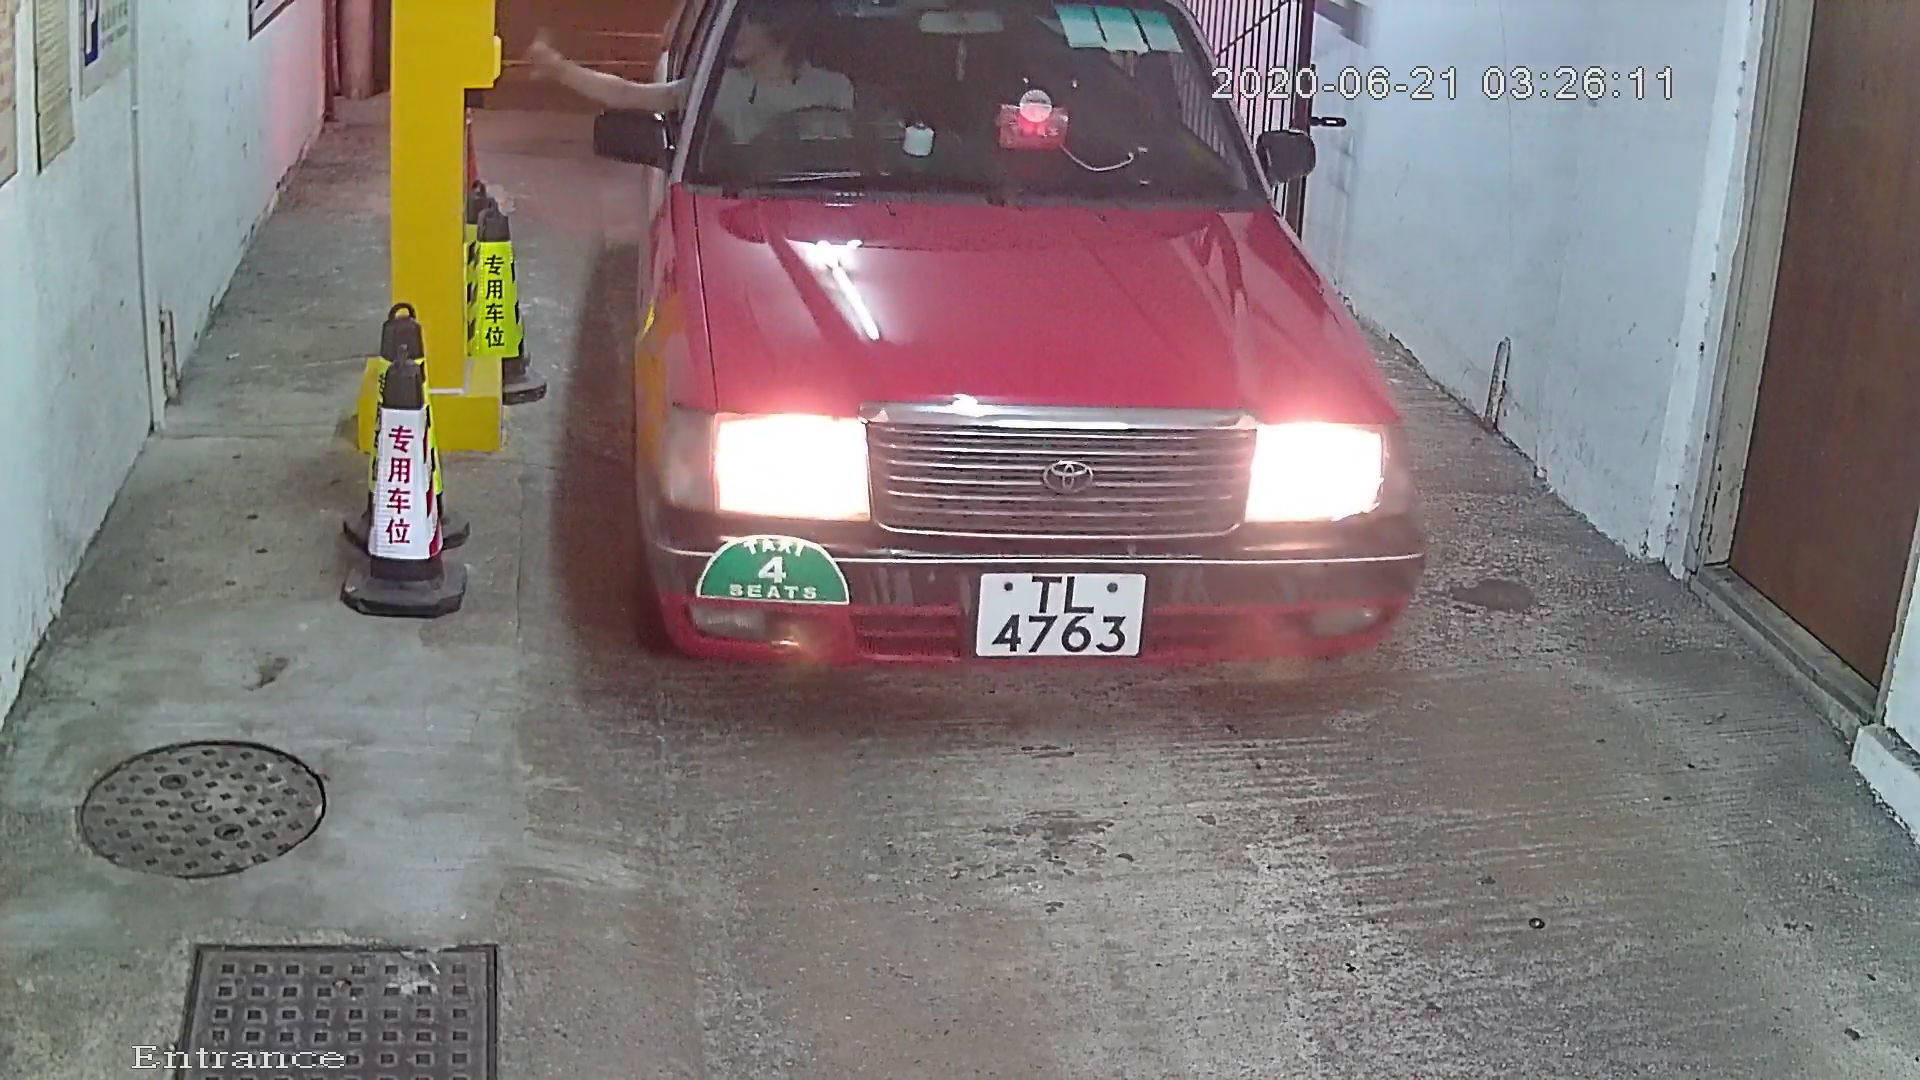taxi: (572, 1, 1443, 800)
taxi_mark: (694, 476, 872, 659)
